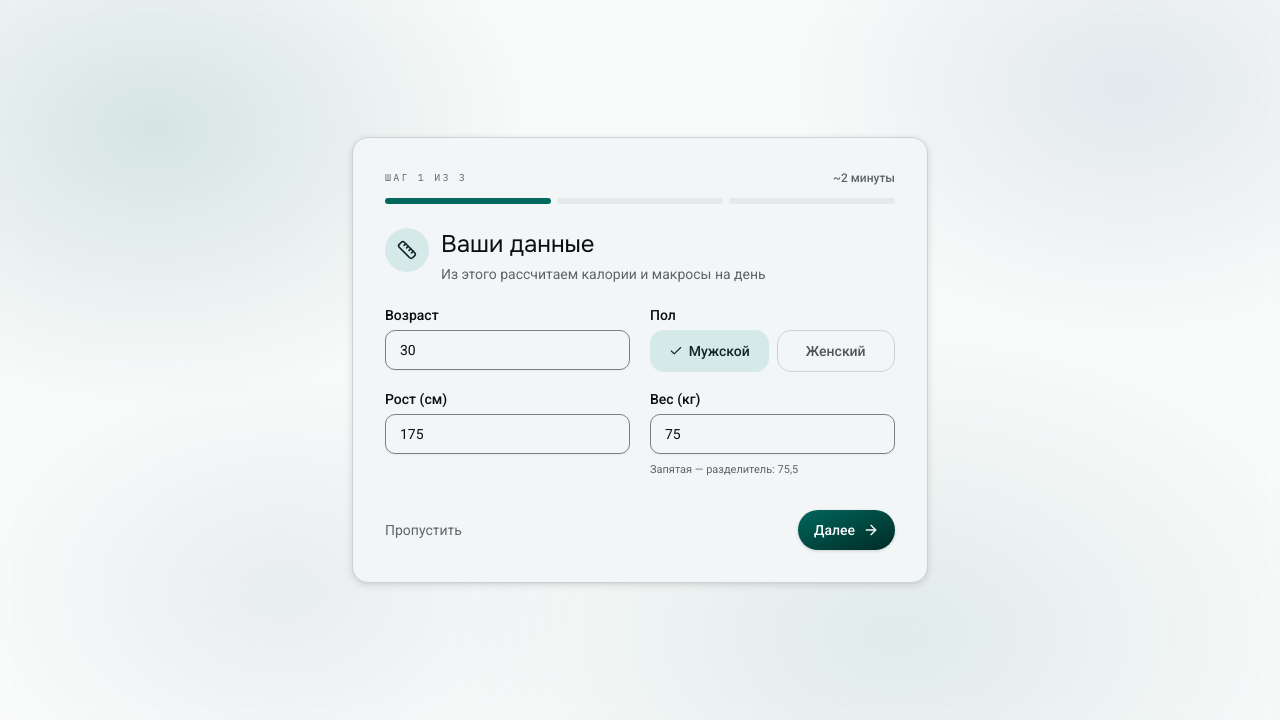
OnboardingWizard › блокирует переход при невалидной антропометрии и показывает ошибку
Type "5" into the field labelled "Возраст".
click(508, 350); type("5")  # box left=385, top=330, right=630, bottom=370
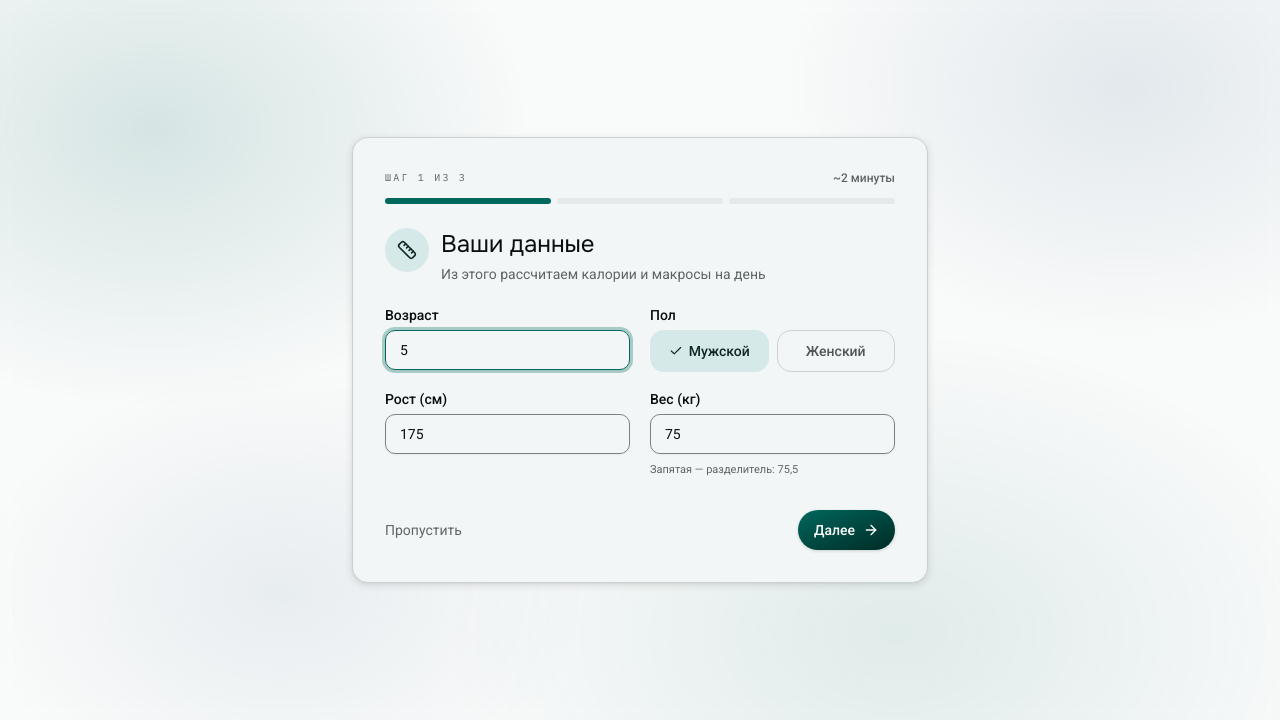
Click the button "Далее".
click(846, 530)  # box left=798, top=510, right=895, bottom=550
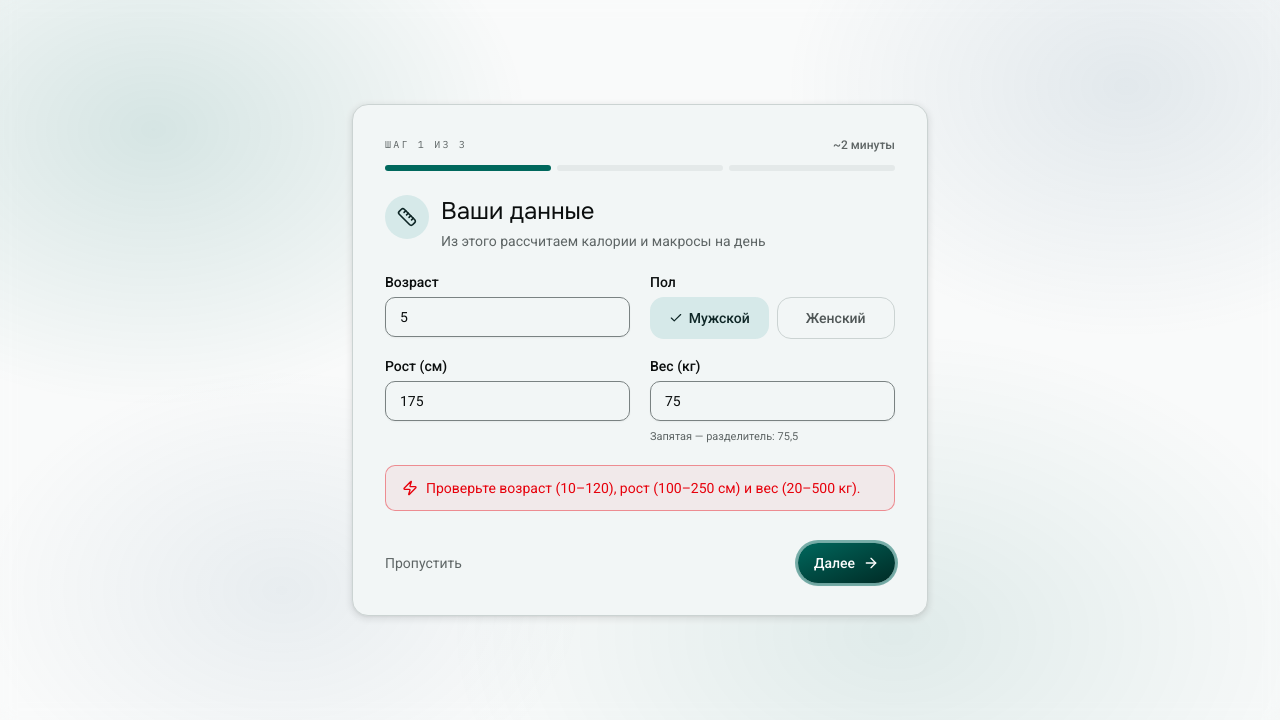
Now the text "Проверьте возраст" is shown, box left=426, top=480, right=860, bottom=496
